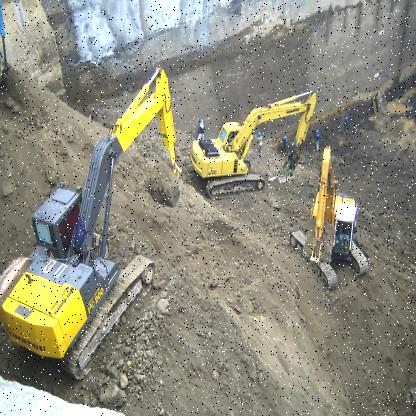excavator: (1, 67, 189, 375), (190, 83, 322, 201), (287, 144, 374, 295)
